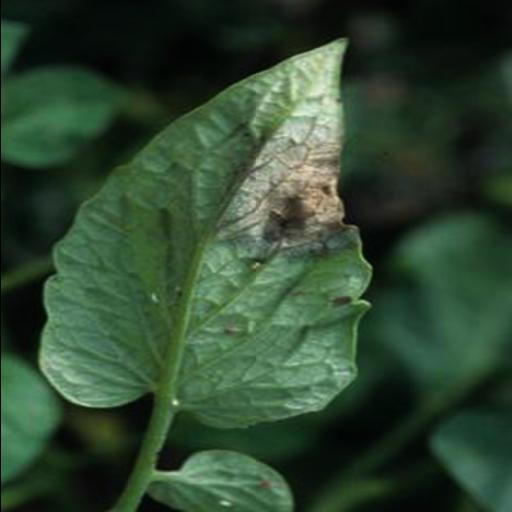disease_tomato: (26, 36, 378, 434)
